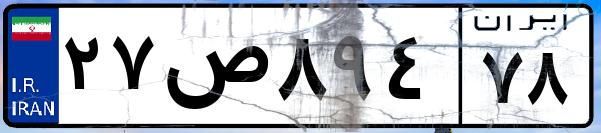2: (57, 26, 110, 100)
4: (385, 28, 445, 110)
7: (475, 38, 525, 113), (110, 28, 158, 98)
8: (270, 28, 330, 110), (525, 38, 570, 115)
9: (330, 28, 385, 110)
ص: (158, 20, 270, 120)
